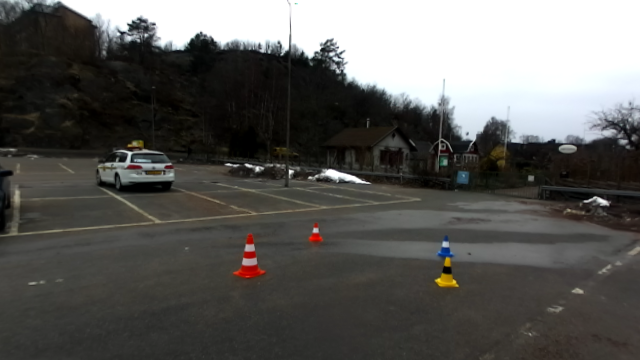blue: (436, 233, 456, 259)
orange: (306, 220, 324, 242)
orange2: (234, 231, 268, 278)
yellow: (433, 255, 458, 290)
